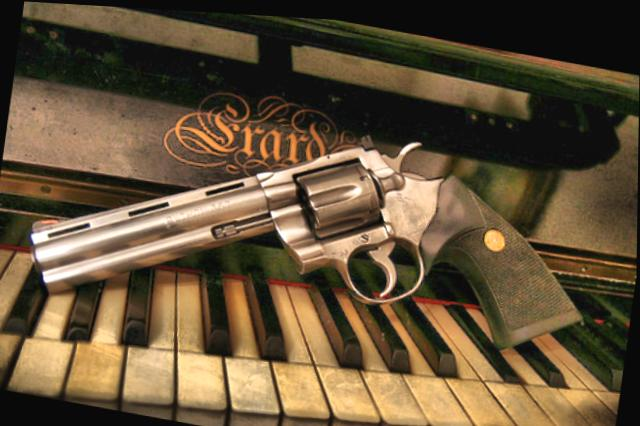pistol: (21, 71, 602, 381)
